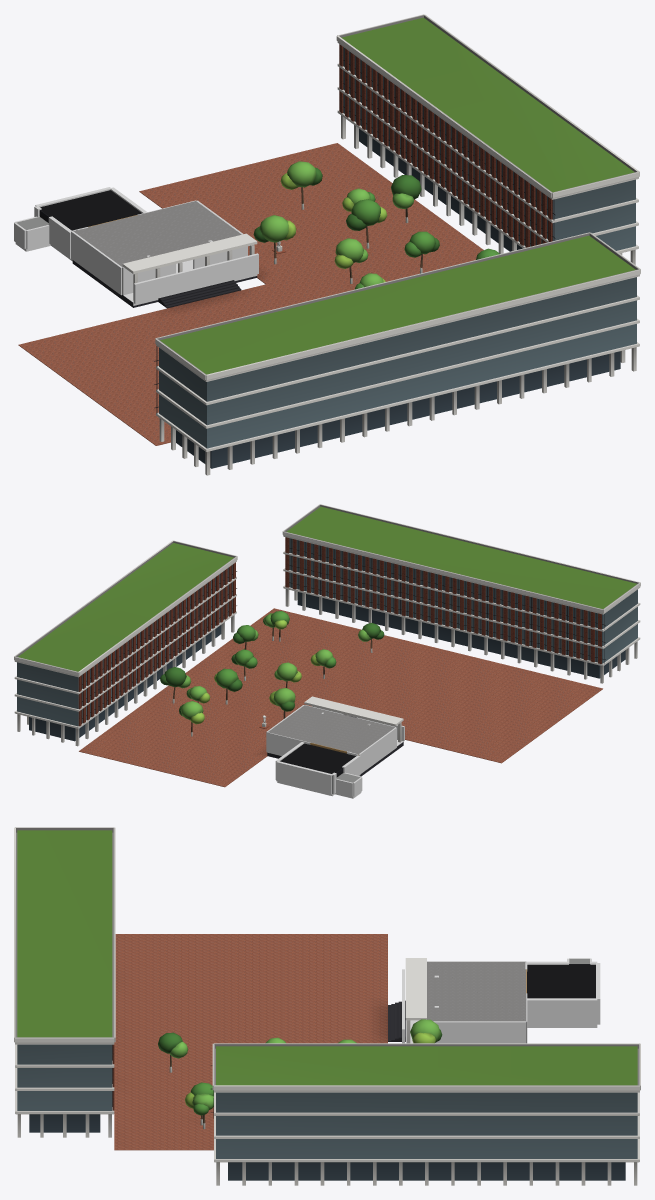
The model's file is zone_03_lobby.glb.
The picture shows the model from 3 angles, top to bottom: view 1: azimuth 30°, elevation 25°; view 2: azimuth 150°, elevation 25°; view 3: azimuth 270°, elevation 25°; orthographic projection. The views are drawn at different scales.
Visible parts, largest first — view 1: ENV_ngoai_troi, ENV_san_gach, ENV_sanh, ENV_cay_san, COL_bien_chieu_nghi, ENV_hat_lua, COL_tuong_tay, COL_hl_tuong_tay_nam; view 2: ENV_ngoai_troi, ENV_san_gach, ENV_cay_san, ENV_sanh, ENV_hat_lua, COL_hl_tuong_bac, COL_tuong_tay, COL_tuong_bac_phai; view 3: ENV_ngoai_troi, ENV_san_gach, ENV_sanh, ENV_hat_lua, ENV_cay_san, COL_vach_kinh_dong, COL_hl_tuong_dong.
Part boxes in pixels (x1,y1,x2,y2): ENV_ngoai_troi: (122,14,640,475); ENV_san_gach: (18,143,483,445); ENV_sanh: (72,201,257,307); ENV_cay_san: (253,161,499,289); COL_bien_chieu_nghi: (133,253,258,303); ENV_hat_lua: (16,190,141,246); COL_tuong_tay: (71,231,122,295); COL_hl_tuong_tay_nam: (48,216,71,258); ENV_ngoai_troi: (14,504,640,746); ENV_san_gach: (79,608,602,787); ENV_cay_san: (160,611,384,736); ENV_sanh: (267,705,403,776); ENV_hat_lua: (280,743,360,793); COL_hl_tuong_bac: (276,761,332,794); COL_tuong_tay: (359,727,396,773); COL_tuong_bac_phai: (267,732,310,755); ENV_ngoai_troi: (14,827,640,1185); ENV_san_gach: (114,934,387,1150); ENV_sanh: (427,962,526,1042); ENV_hat_lua: (527,959,595,998); ENV_cay_san: (158,1019,442,1129); COL_vach_kinh_dong: (433,1021,526,1043); COL_hl_tuong_dong: (527,998,597,1025).
Size of the model in its own units: 86.58 by 16.58 by 88.3.
7 materials, 3 textured.
